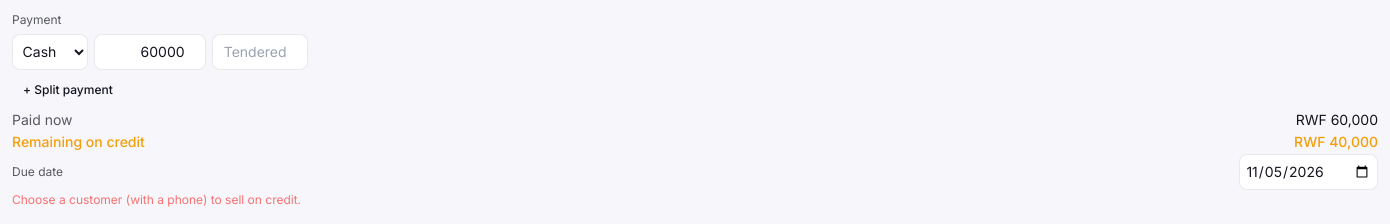
Test: PaymentPanel › splits a payment and asks for a reference on MoMo
Click the button "+ Split payment": (68, 90) top-left (12, 75), bottom-right (124, 104)
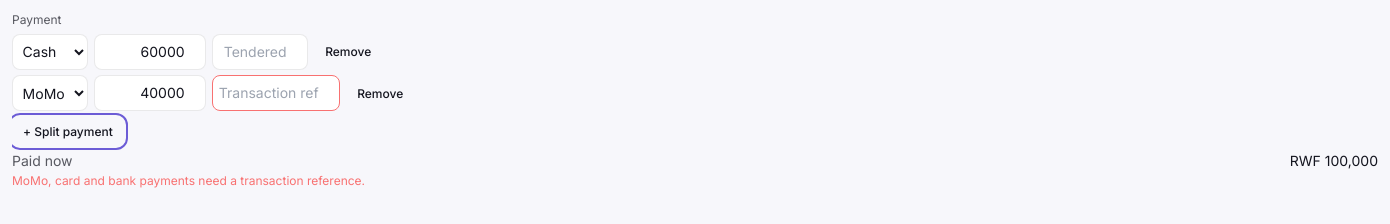
Expected: the dropdown named "Payment 2 method" shows "MoMo", top-left (12, 75), bottom-right (88, 111)
Expected: the number field named "Payment 2 amount" holds "40000", top-left (94, 75), bottom-right (206, 111)
Expected: the text "MoMo, card and bank payments need a transaction reference." is shown, top-left (12, 173), bottom-right (365, 188)
In the field named "Payment 2 reference": (276, 93) top-left (212, 75), bottom-right (340, 111), type "MP123"
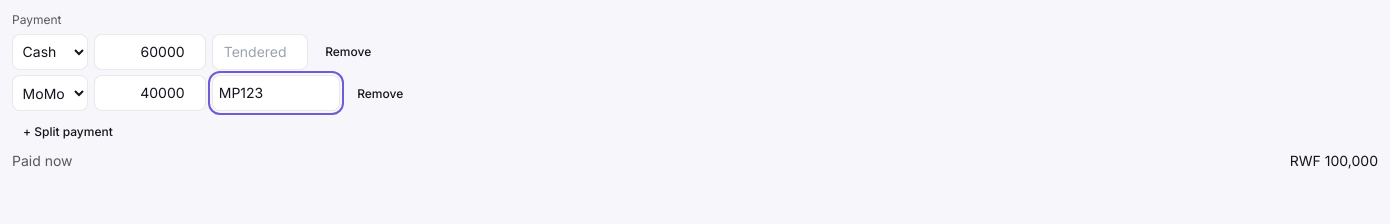
Expected: the text "need a transaction reference" is gone
